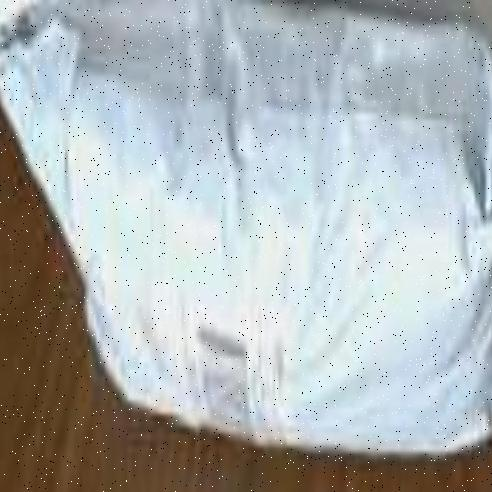Other: (1, 0, 492, 458)
